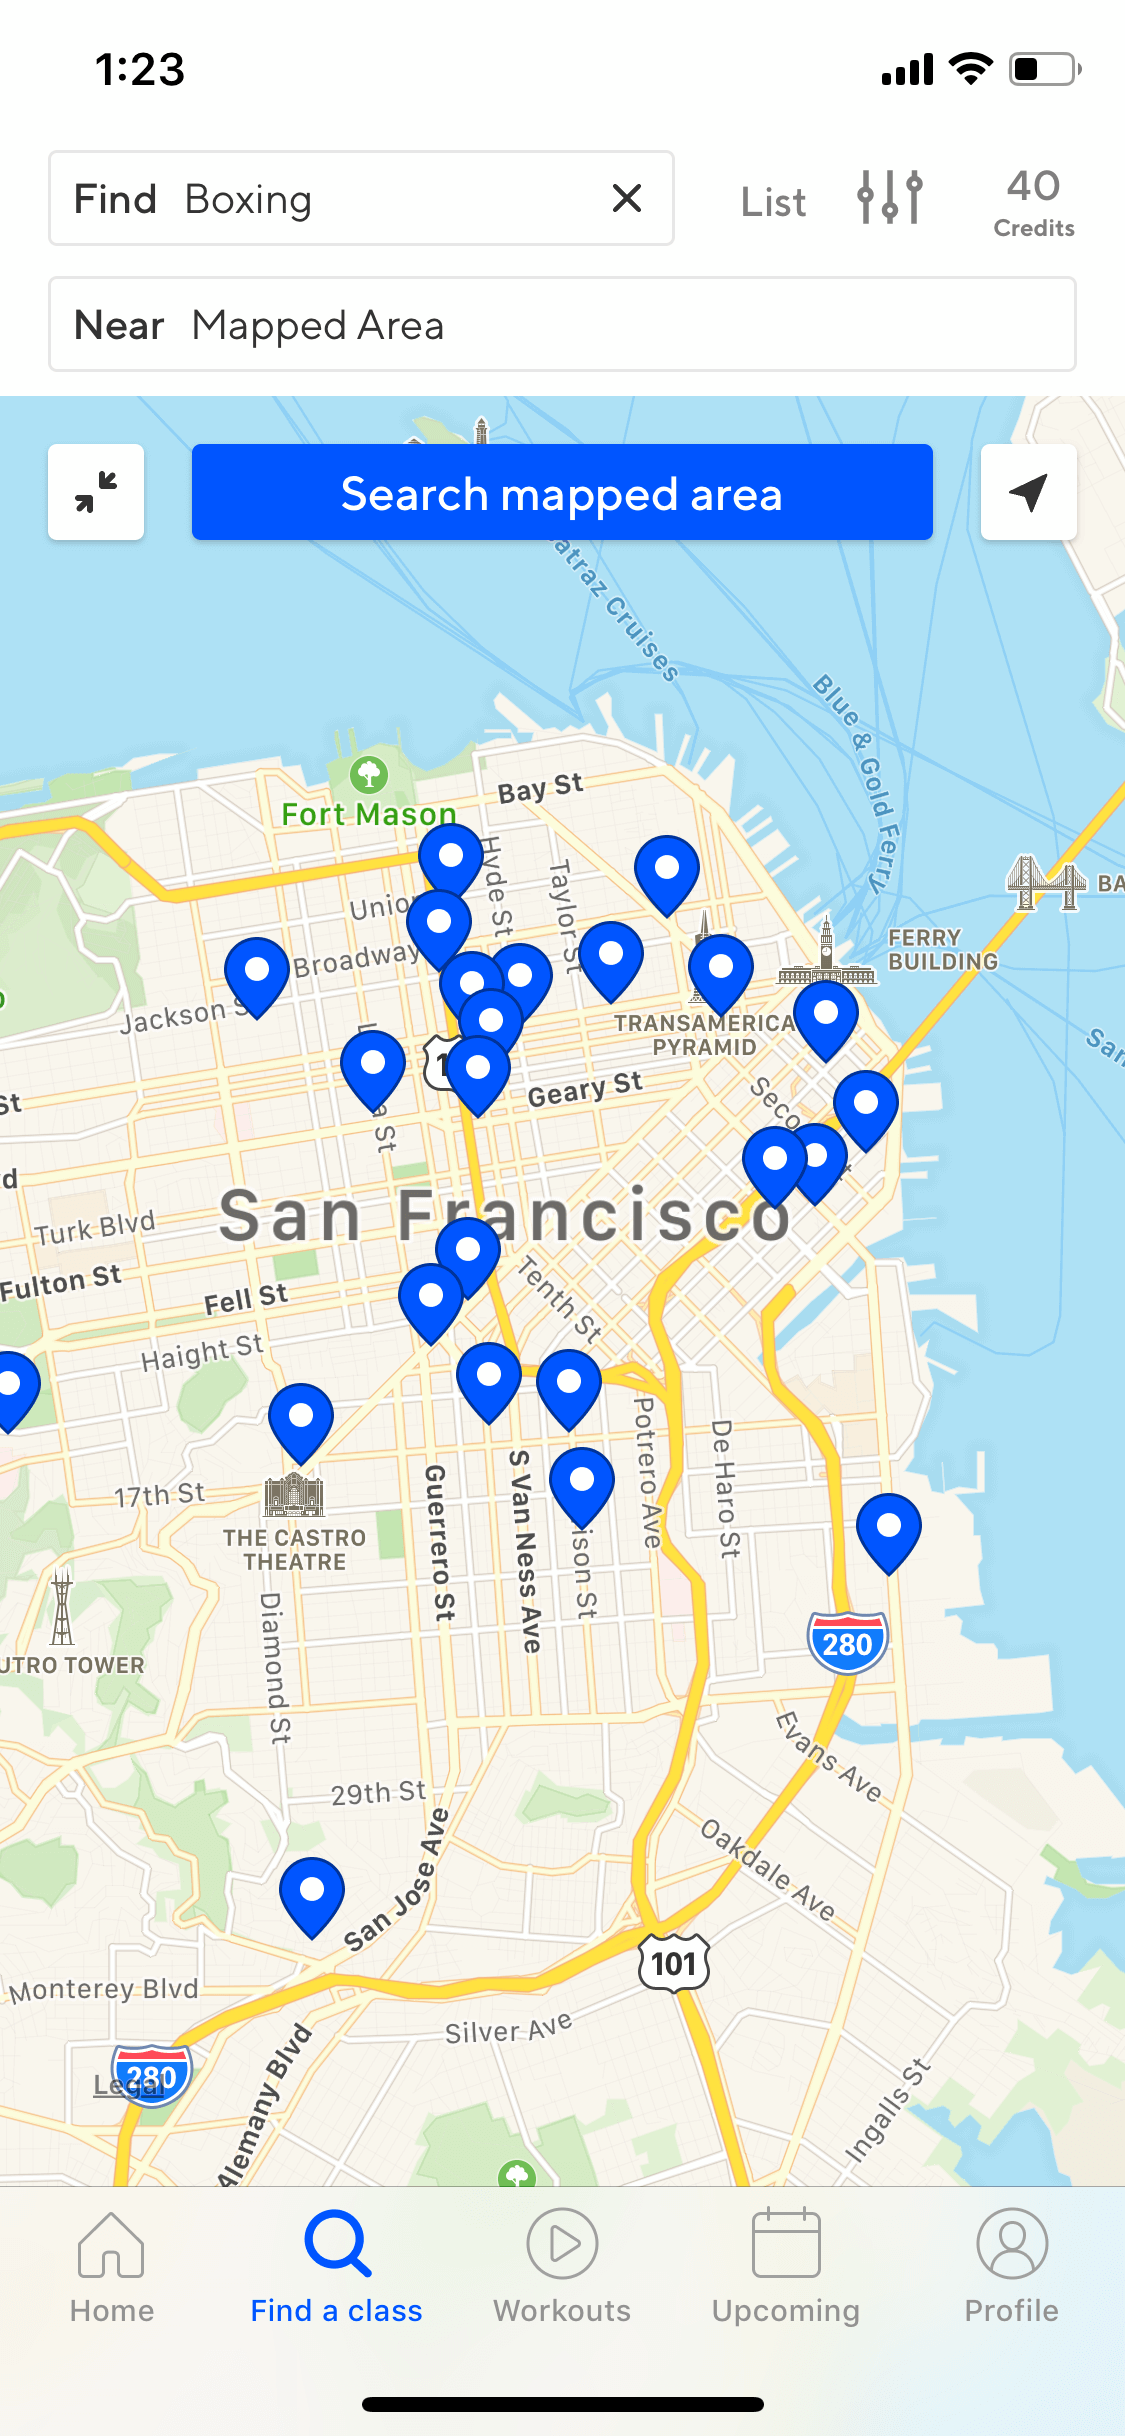Buttons: (973, 135, 1108, 245), (716, 155, 822, 245), (842, 158, 953, 242)
FAB (Floating Action Button): (171, 424, 942, 550), (23, 426, 162, 562), (968, 429, 1091, 555)
